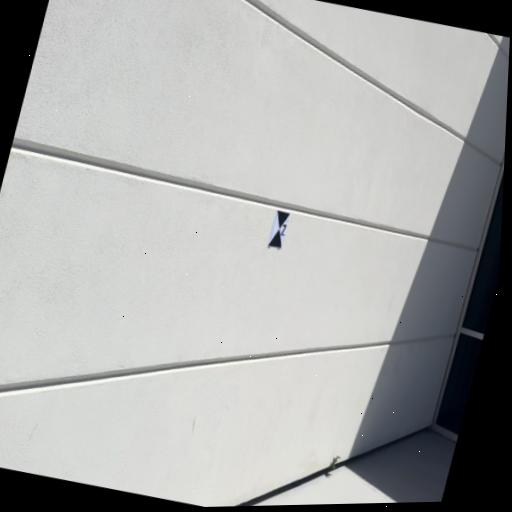target7: (268, 209, 290, 249)
